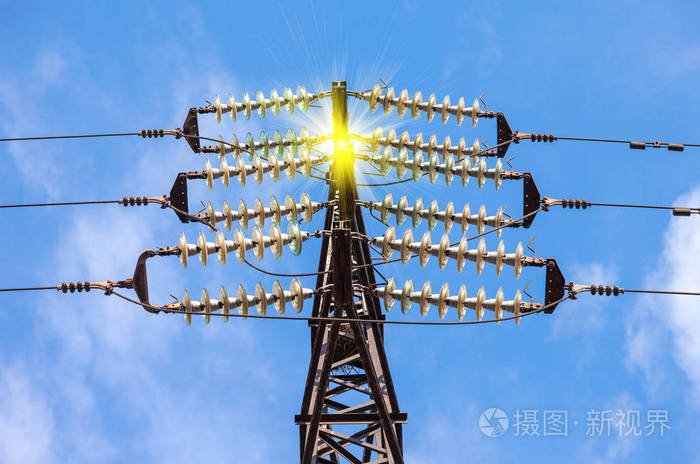insulator: (380, 224, 526, 279), (380, 279, 525, 327), (180, 276, 307, 329), (179, 220, 302, 265), (377, 193, 506, 235), (375, 149, 504, 189), (367, 84, 483, 125), (200, 150, 314, 190), (365, 127, 484, 162), (208, 195, 312, 235), (213, 84, 315, 123), (215, 129, 316, 159)
